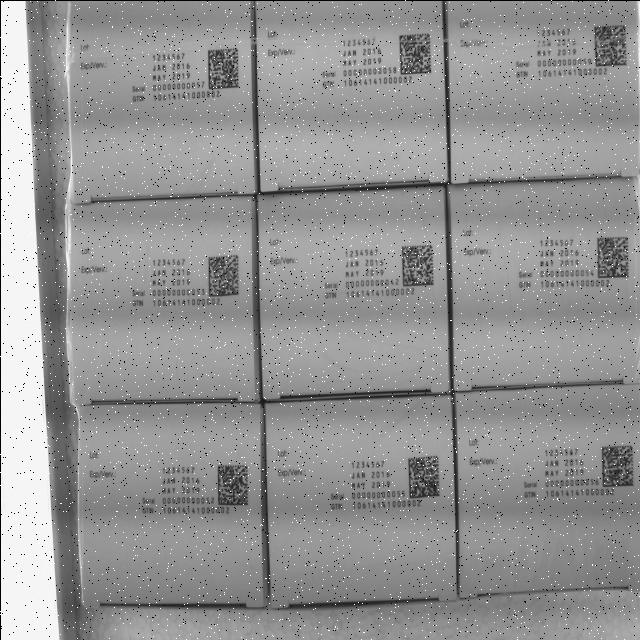datamatrix: (215, 460, 250, 506), (206, 44, 241, 89), (406, 453, 441, 498), (595, 234, 629, 280), (399, 242, 434, 286), (600, 442, 635, 486), (398, 32, 432, 77), (592, 21, 626, 66), (206, 251, 240, 296)
